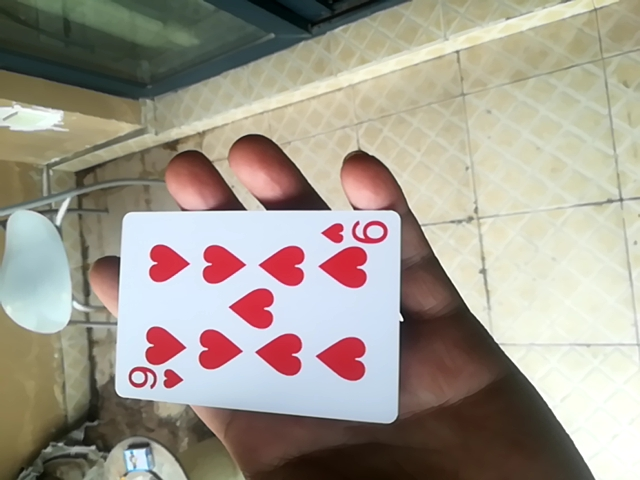hx 9: (108, 201, 401, 423)
